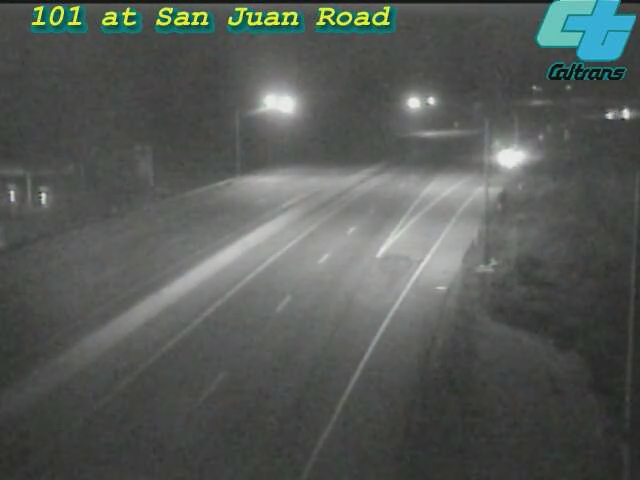vehicle: (486, 131, 536, 181), (600, 89, 640, 139)
